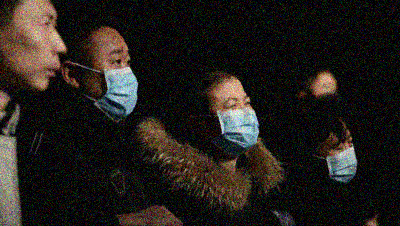with_mask: (79, 47, 139, 120), (212, 93, 260, 148), (320, 139, 357, 182)
without_mask: (6, 12, 68, 90)
